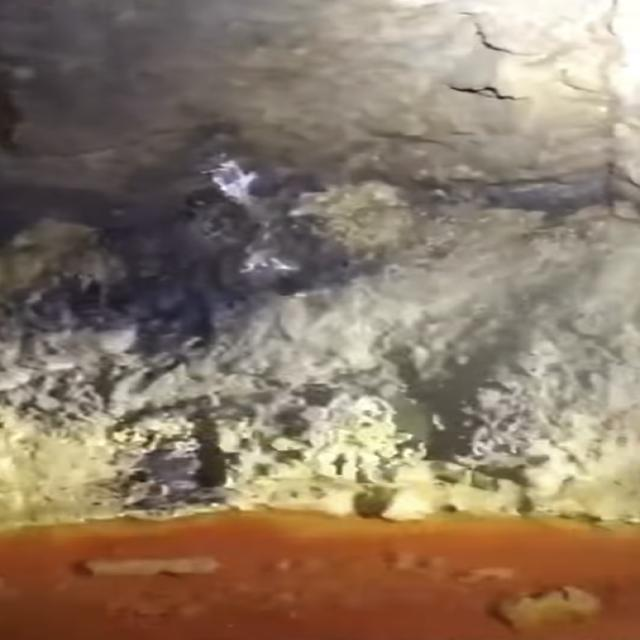yellow_boy: (0, 512, 639, 639)
